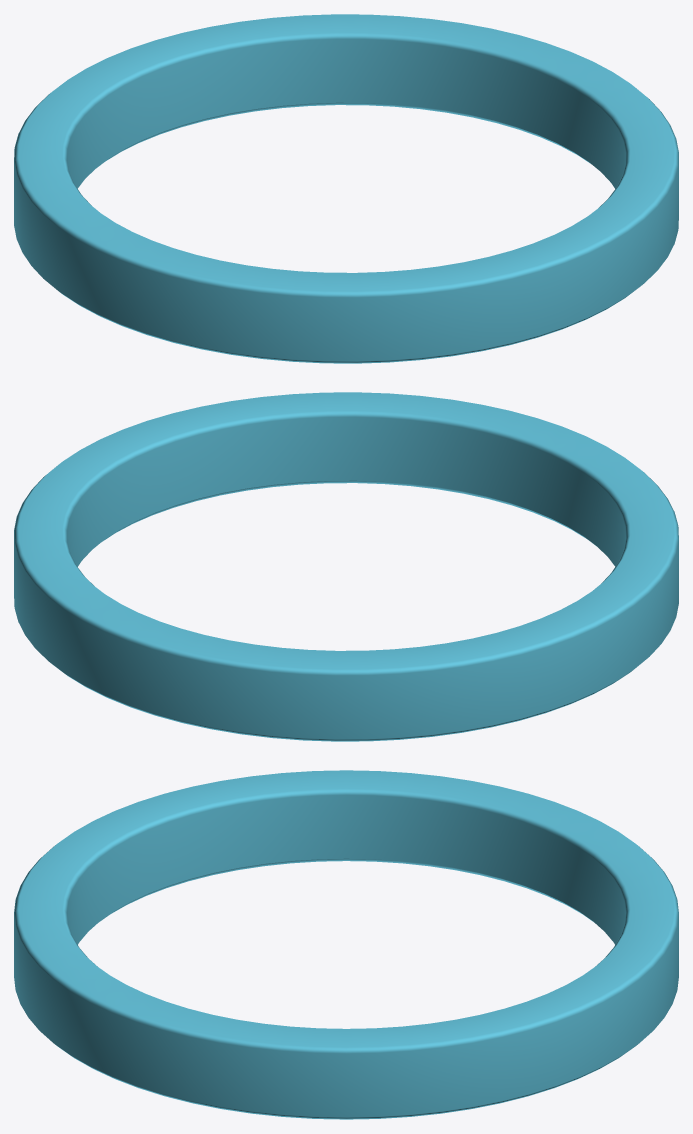
3 views of the same model, one above another, from view 1: azimuth 30°, elevation 25°; view 2: azimuth 150°, elevation 25°; view 3: azimuth 270°, elevation 25° (orthographic).
Visible parts, largest first — view 1: seal_body; view 2: seal_body; view 3: seal_body.
Boxes of the visible parts, x1=… form: seal_body: x1=14, y1=14, x2=678, y2=363; seal_body: x1=14, y1=392, x2=678, y2=741; seal_body: x1=14, y1=770, x2=678, y2=1119.
Size of the model in its own units: 0.0794 by 0.00952 by 0.0794.
